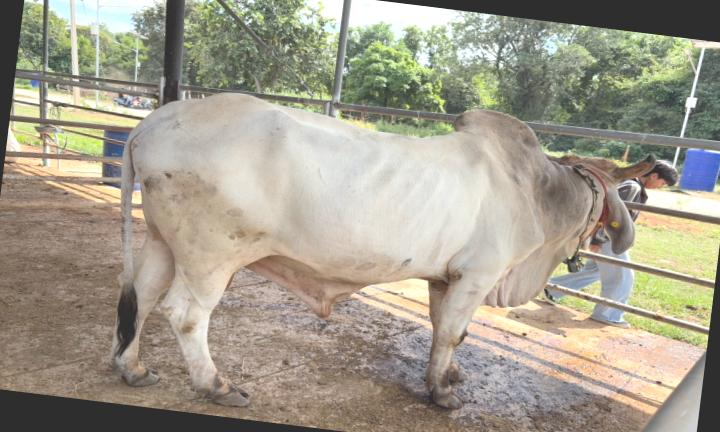Brahman: (110, 94, 654, 408)
